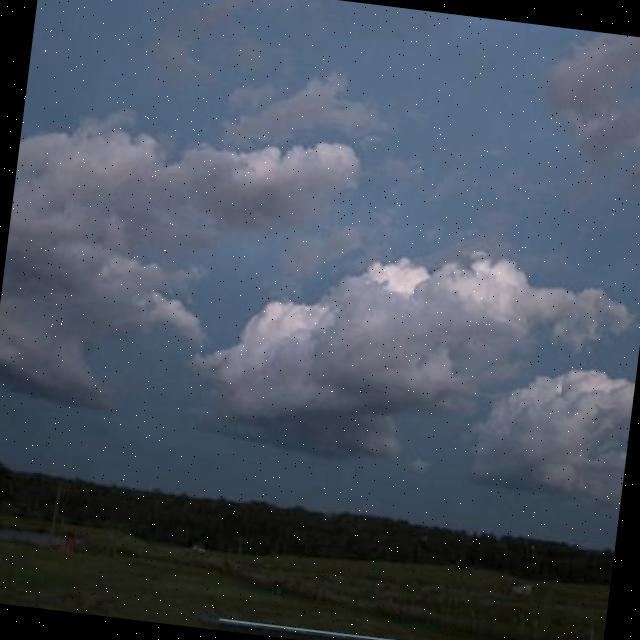As: (1, 86, 640, 485)
